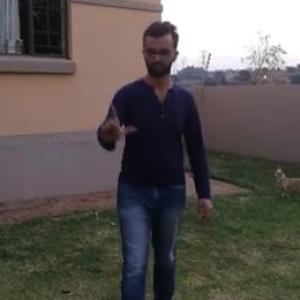land_hand: (88, 95, 136, 143)
